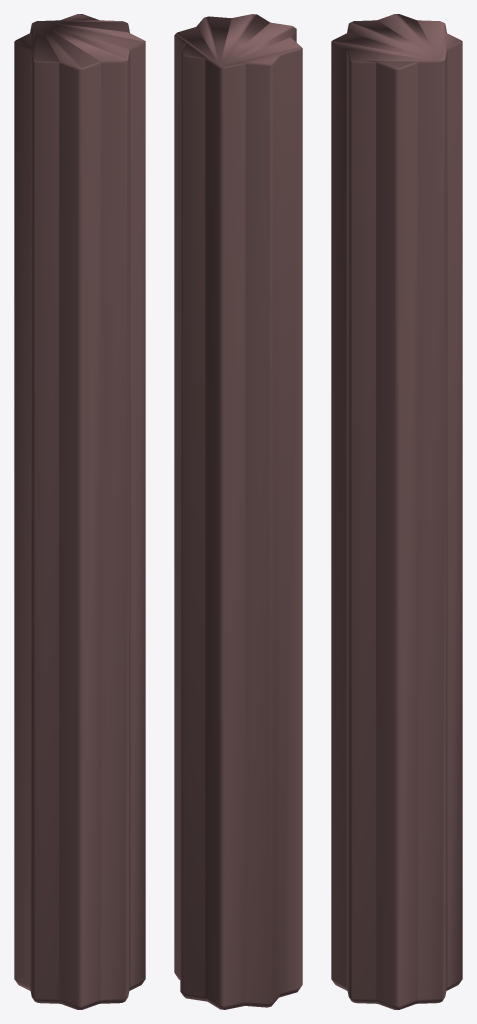
Rendered from Pillar_middlerealworld.fbx.
3 views of the same model, side by side, from view 1: azimuth 90°, elevation 25°; view 2: azimuth 210°, elevation 25°; view 3: azimuth 270°, elevation 25° (orthographic).
Parts seen in each view (by area): view 1: pillar_full2; view 2: pillar_full2; view 3: pillar_full2.
Part boxes in pixels (bbox=[...]): pillar_full2: bbox=[14, 14, 145, 1009]; pillar_full2: bbox=[174, 14, 302, 1009]; pillar_full2: bbox=[331, 14, 462, 1009].
Bounding box in the file's own units: 44.36 × 352 × 44.36.
